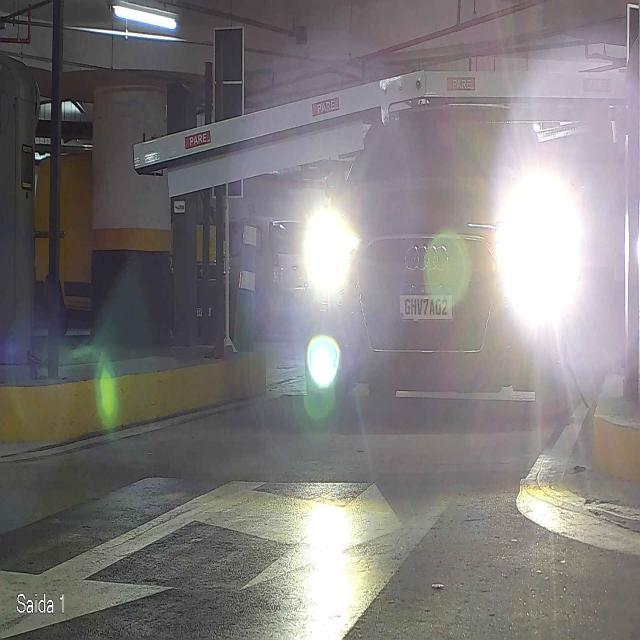mercosul_plate: (398, 286, 454, 321)
